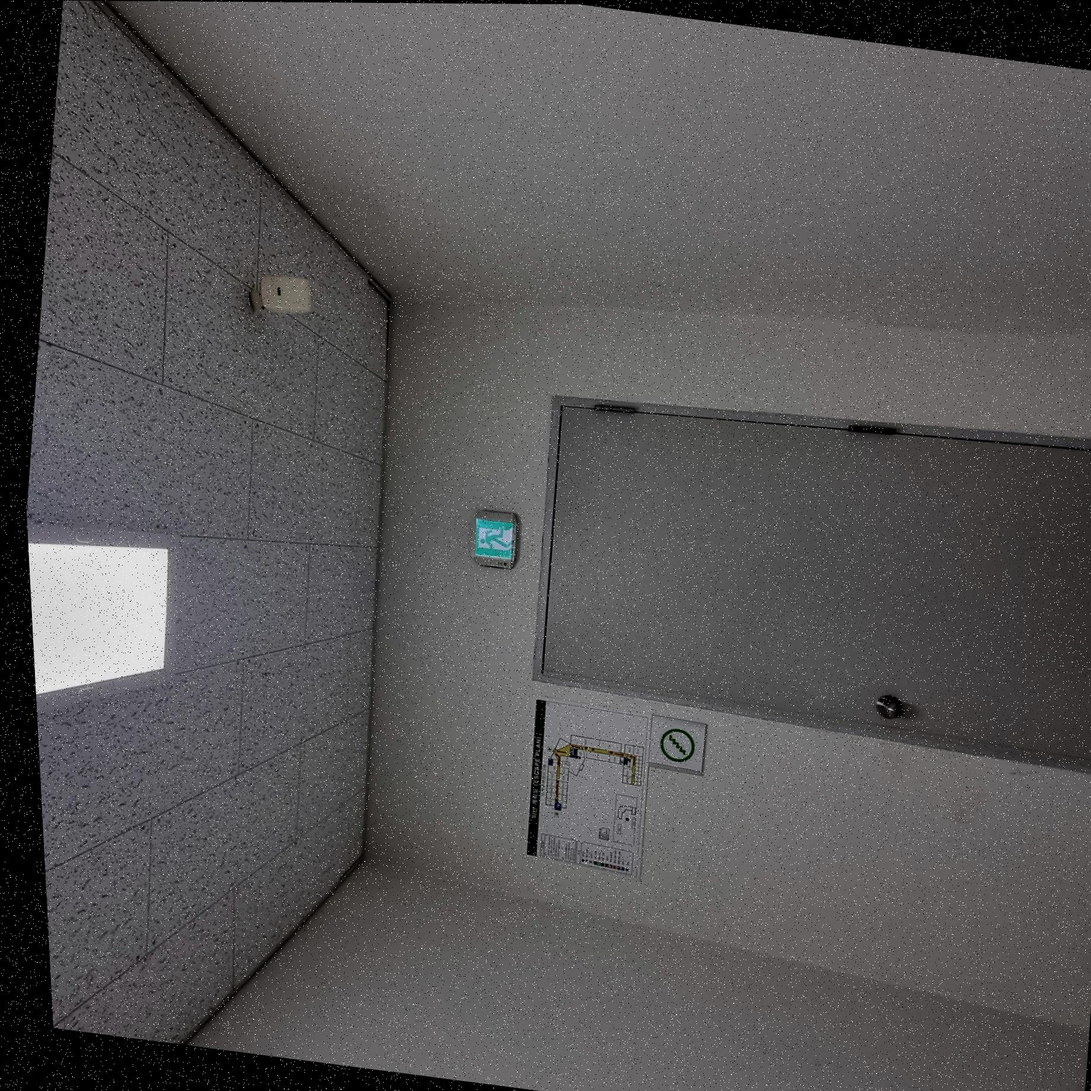emergency_exit: (525, 697, 652, 881), (649, 714, 708, 775), (472, 509, 520, 568)
